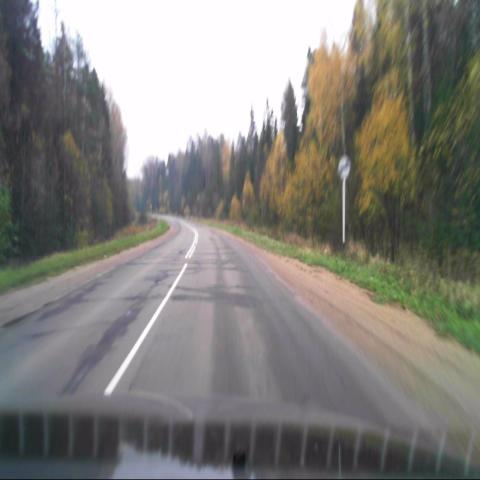3_21: (337, 155, 351, 180)
